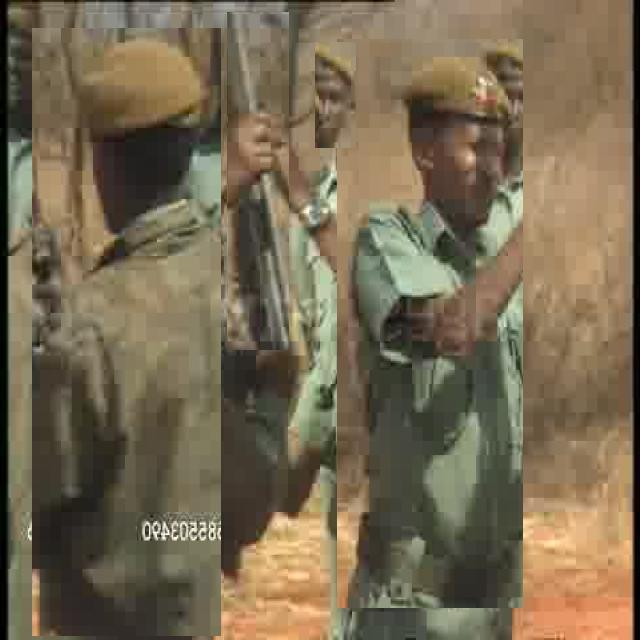poacher: (32, 29, 221, 636), (337, 39, 523, 608), (315, 42, 356, 148)
weapon: (227, 12, 289, 350)
